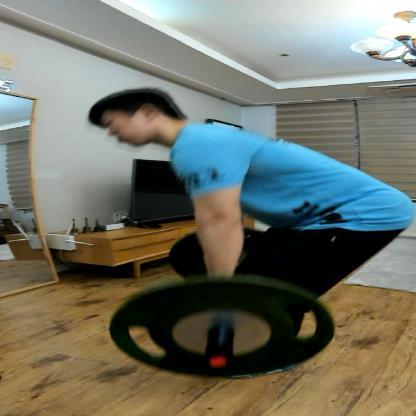Barbell: (193, 348, 242, 373)
